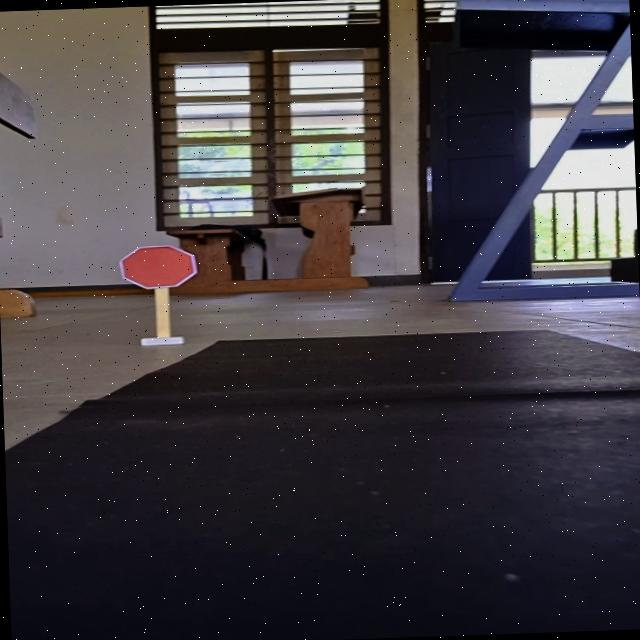Stop: (116, 242, 200, 290)
